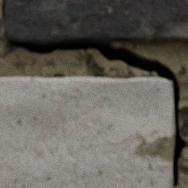brick: (0, 78, 174, 187), (6, 0, 187, 43)
crack: (1, 0, 185, 187)
